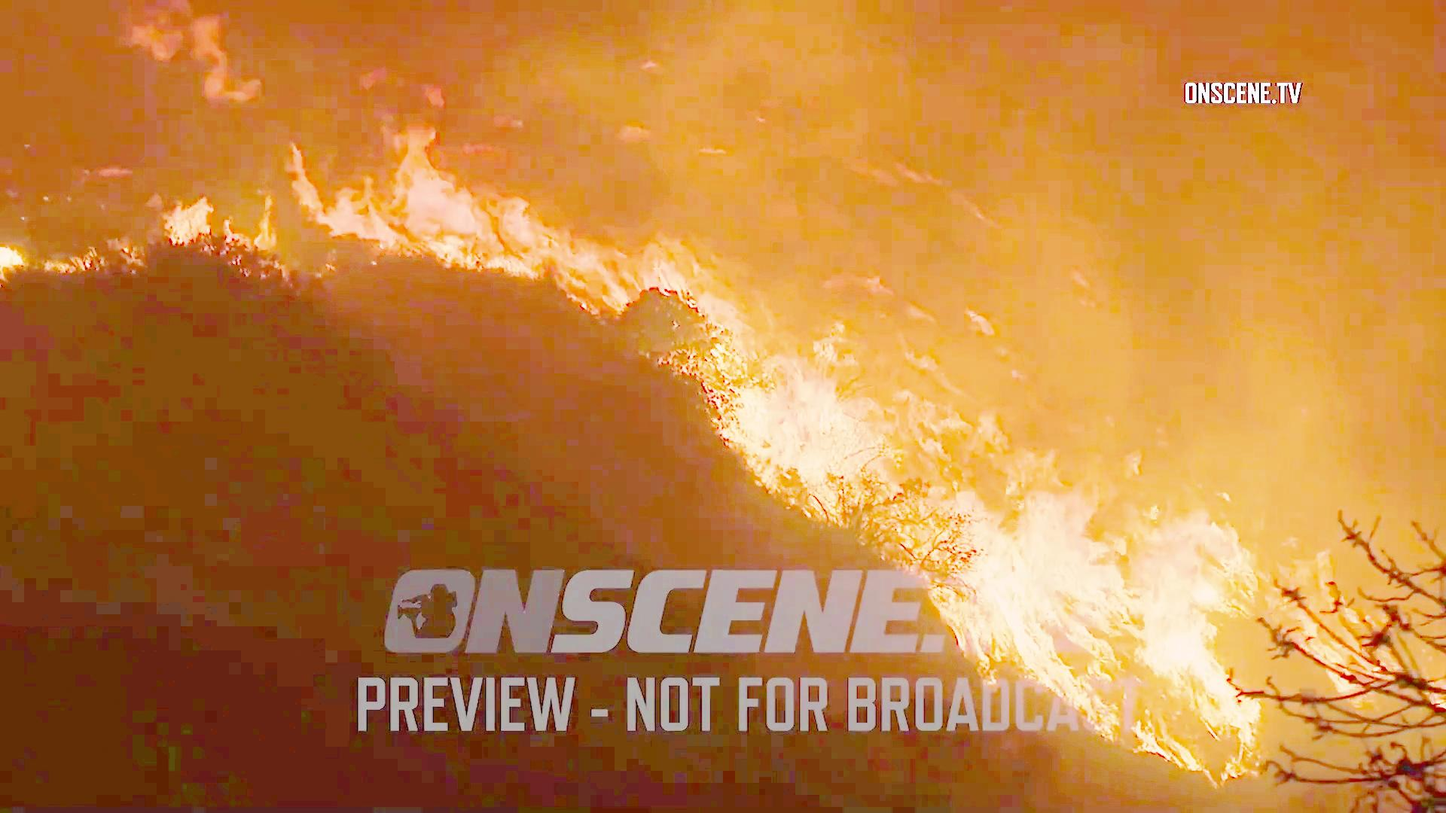fire: (695, 266, 923, 494), (970, 416, 1225, 612), (277, 130, 558, 274)
